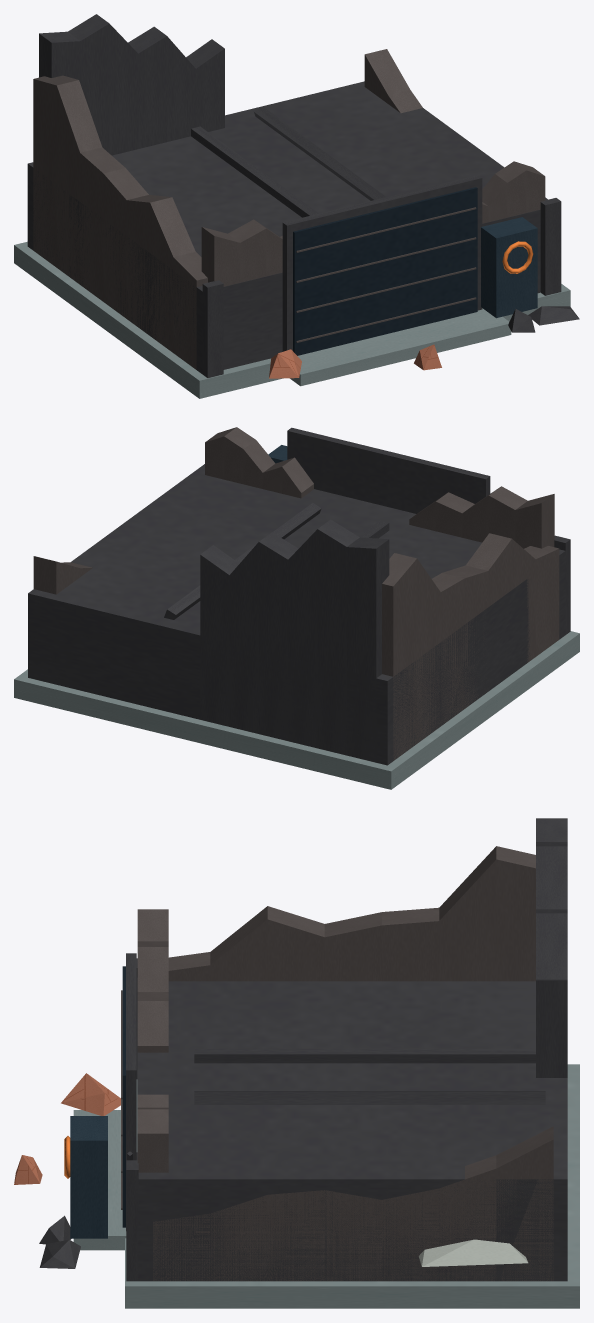
File: workshop-ruined-lod.glb
The picture shows the model from 3 angles, top to bottom: view 1: azimuth 30°, elevation 25°; view 2: azimuth 150°, elevation 25°; view 3: azimuth 270°, elevation 25°; orthographic projection. The views are drawn at different scales.
Visible parts, largest first — view 1: workshop-ruined-lod; view 2: workshop-ruined-lod; view 3: workshop-ruined-lod.
Boxes of the visible parts, box(x1,y1,x2,y2) form: workshop-ruined-lod: box(14, 14, 579, 398); workshop-ruined-lod: box(14, 427, 579, 789); workshop-ruined-lod: box(14, 818, 579, 1308).
Size of the model in its own units: 6.15 by 3.6 by 6.44.
Materials: 1 (1 with a texture image).
